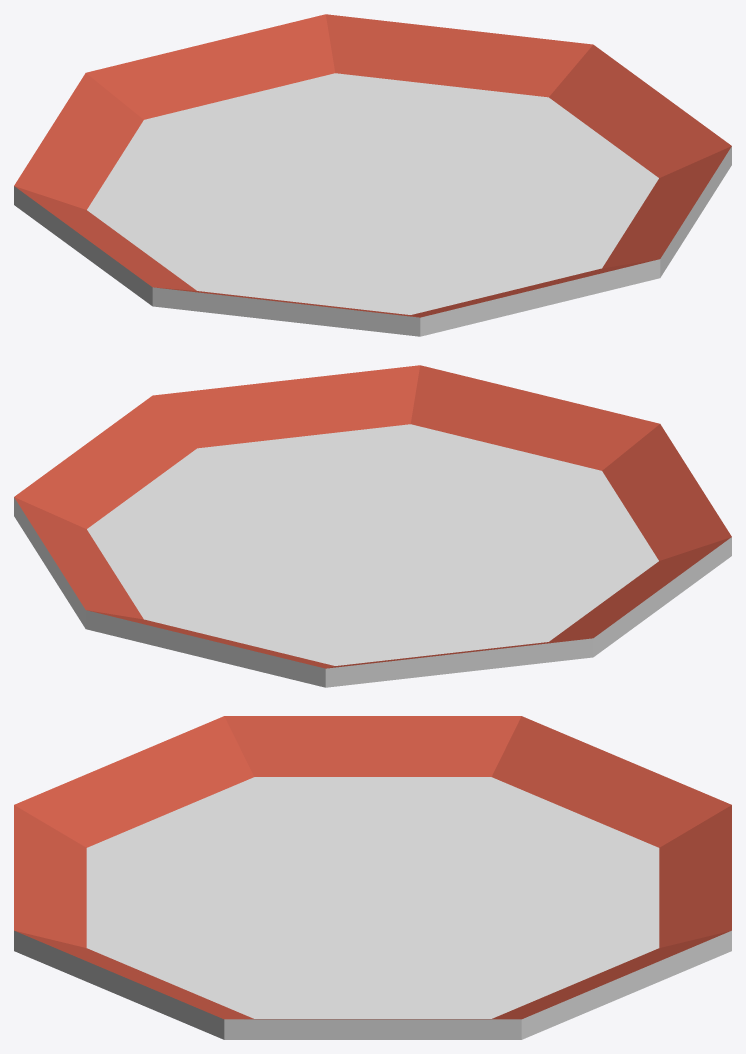
File: SM_Food_Plate_04.fbx
The picture shows the model from 3 angles, top to bottom: view 1: azimuth 30°, elevation 25°; view 2: azimuth 150°, elevation 25°; view 3: azimuth 270°, elevation 25°; orthographic projection. The views are drawn at different scales.
Parts seen in each view (by area): view 1: SM_Food_Plate_04; view 2: SM_Food_Plate_04; view 3: SM_Food_Plate_04.
Part boxes in pixels (bbox=[...]): SM_Food_Plate_04: bbox=[14, 14, 731, 336]; SM_Food_Plate_04: bbox=[14, 365, 731, 687]; SM_Food_Plate_04: bbox=[14, 716, 731, 1039].
Size of the model in its own units: 0.2594 by 0.0203 by 0.2594.
